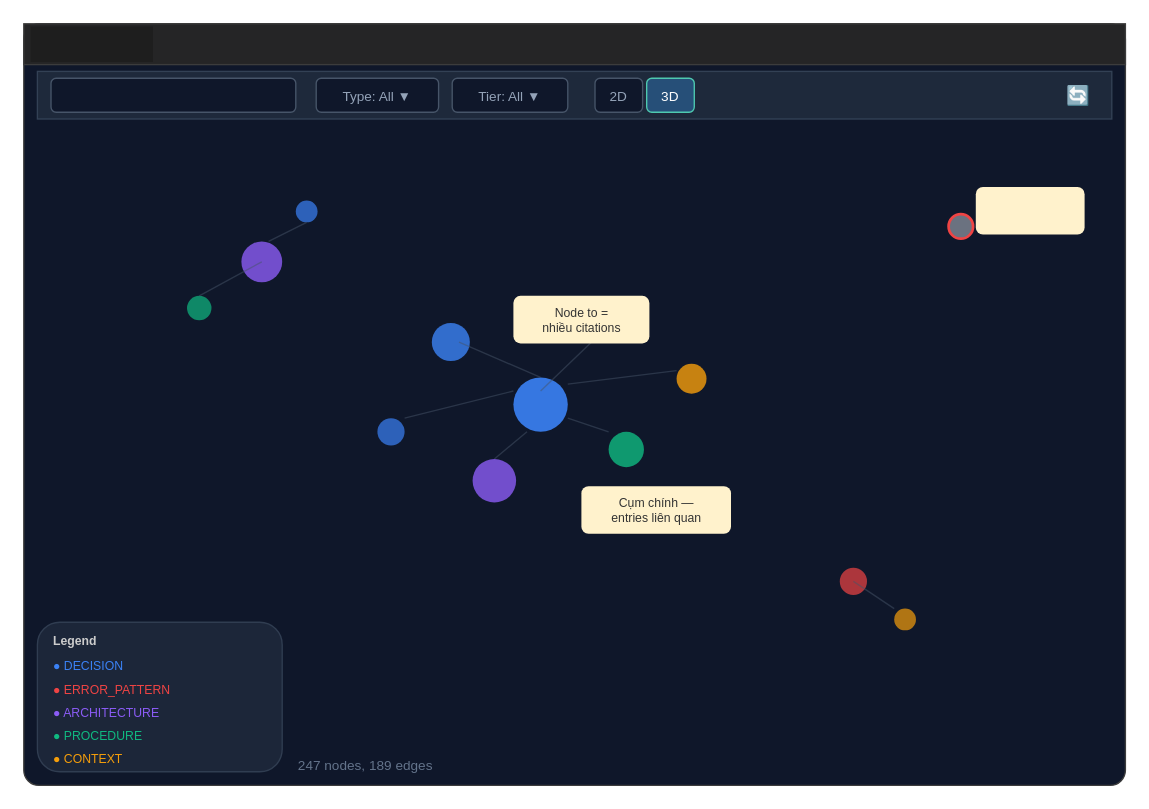
Image size: 1149x809. Some labels were removed from this diagram. The shapes that lost their labels are listed below. From the top down, each one's centre as x and y in pixels, then its label:
At point 91,43: "🕸️ KB Graph".
At point 173,94: "🔍 Search nodes...".
At point 1029,210: "Orphan node (cô lập)".
